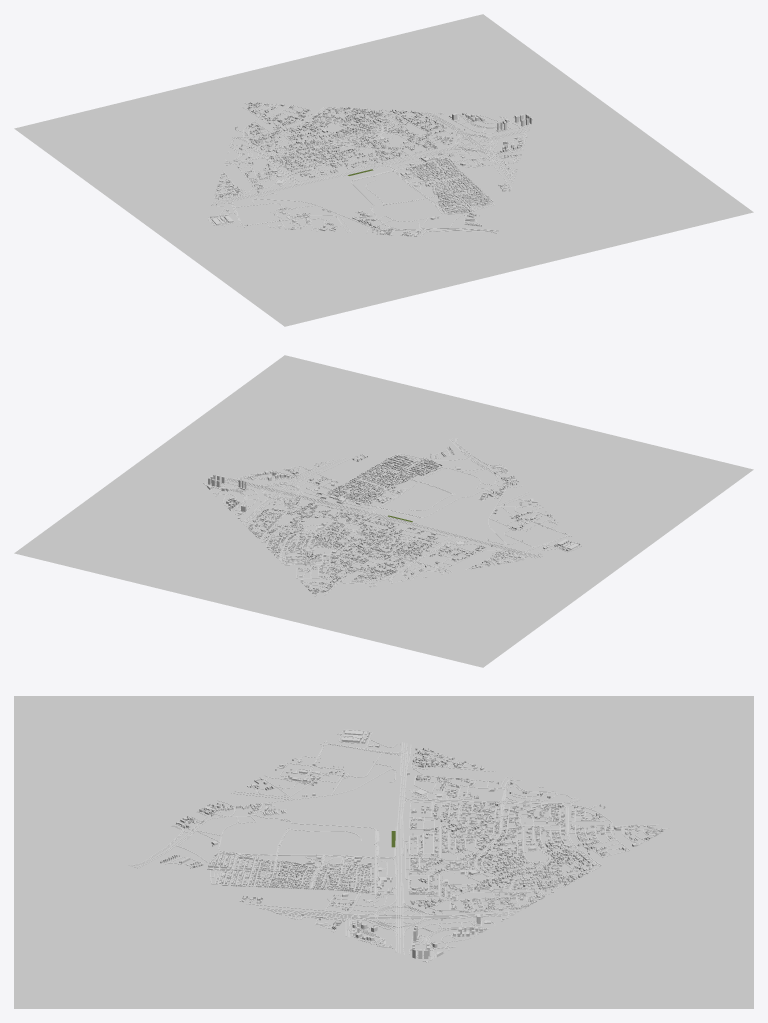
File: MAG_11_mini_map.glb
The picture shows the model from 3 angles, top to bottom: view 1: azimuth 30°, elevation 25°; view 2: azimuth 150°, elevation 25°; view 3: azimuth 270°, elevation 25°; orthographic projection. The views are drawn at different scales.
Parts seen in each view (by area): view 1: land, build, road; view 2: land, build, road; view 3: land, build, road.
Boxes of the visible parts, box(x1,y1,x2,y2) form: land: box(14, 14, 753, 326); build: box(210, 102, 531, 236); road: box(208, 102, 532, 236); land: box(14, 355, 753, 667); build: box(207, 446, 580, 594); road: box(203, 438, 581, 596); land: box(14, 696, 753, 1008); build: box(160, 729, 663, 958); road: box(128, 729, 669, 962).
Size of the model in its own units: 8931 by 154 by 8931.
Materials: 4 (1 with a texture image).
